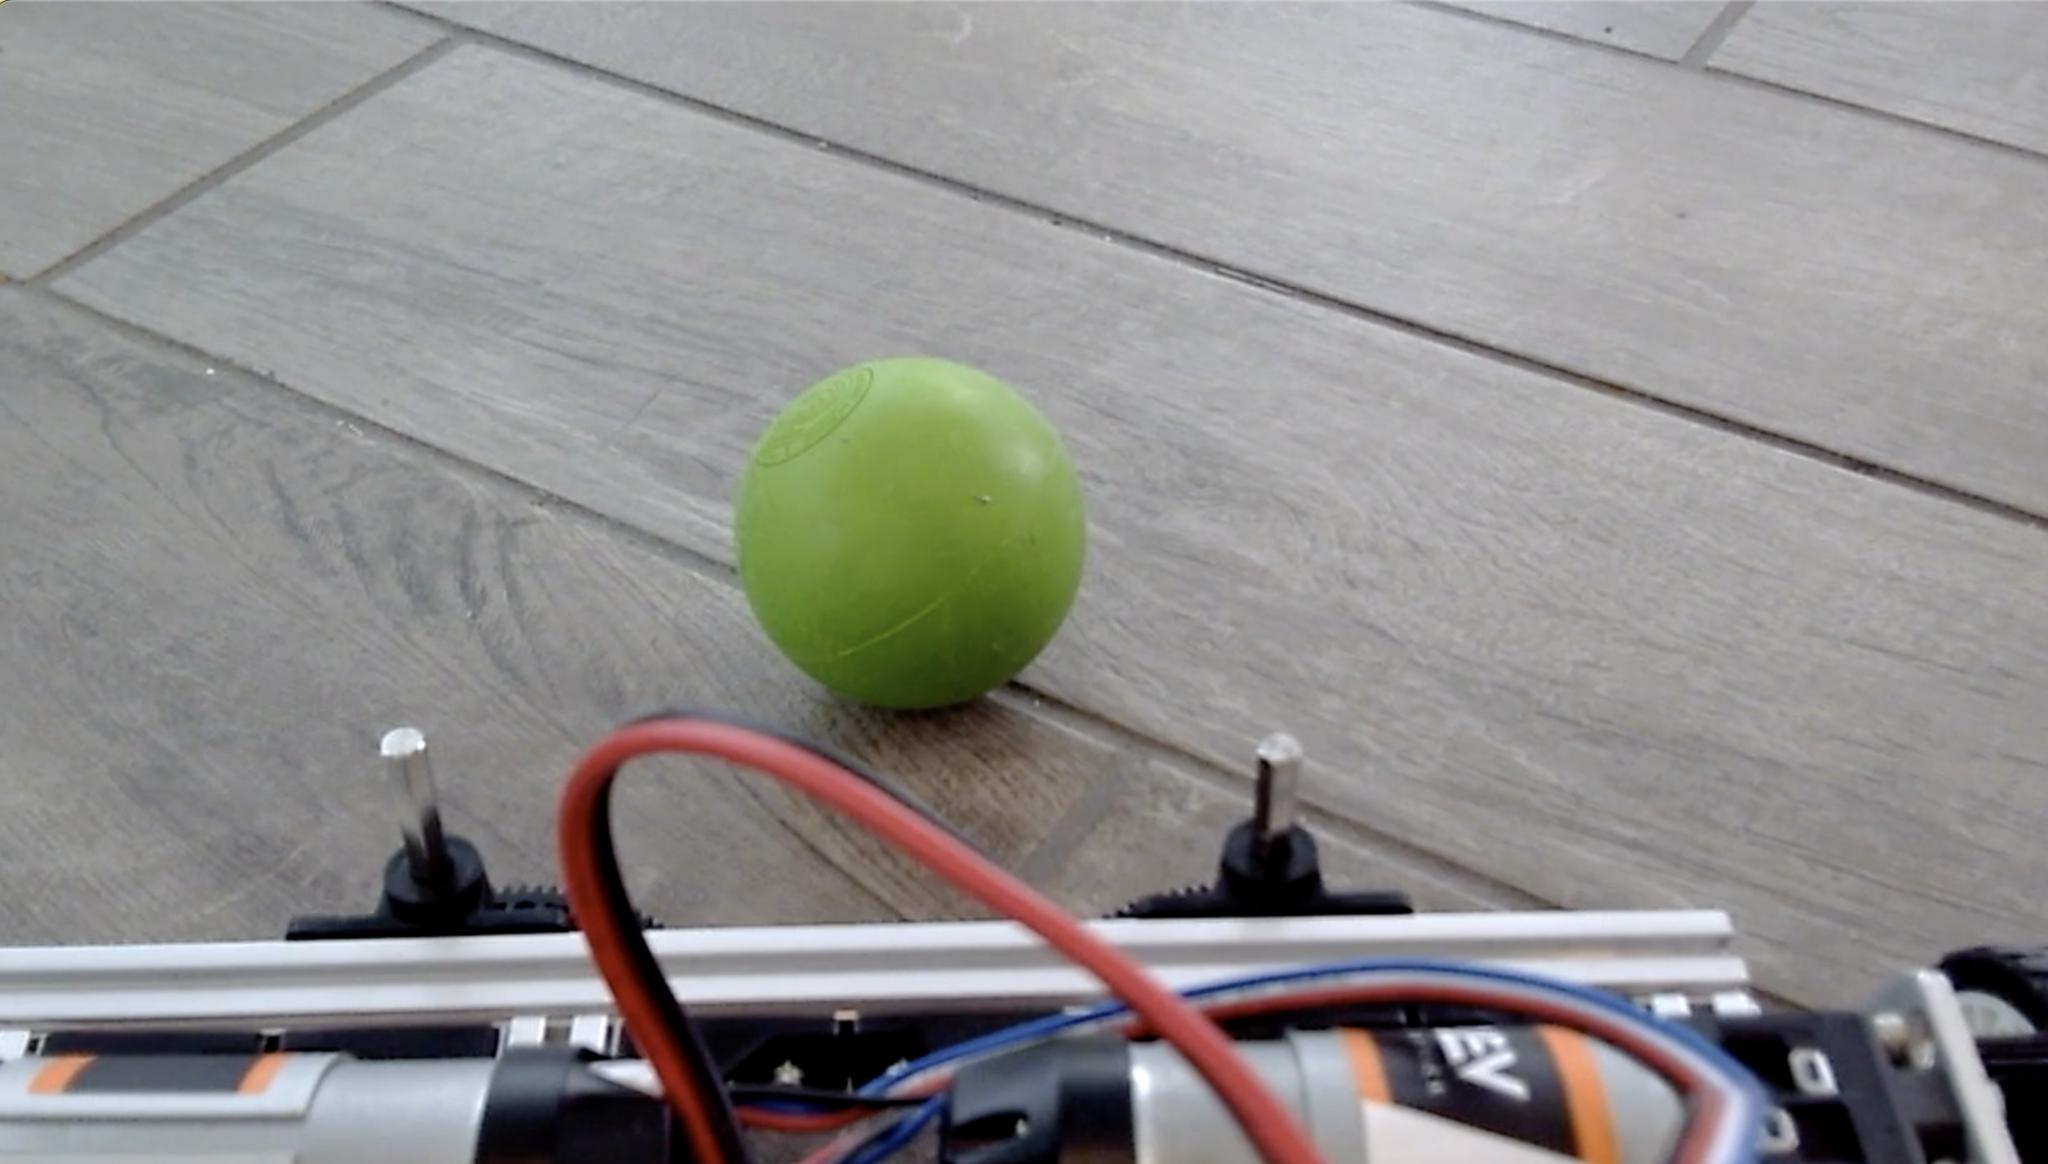greenball: (730, 350, 1090, 711)
